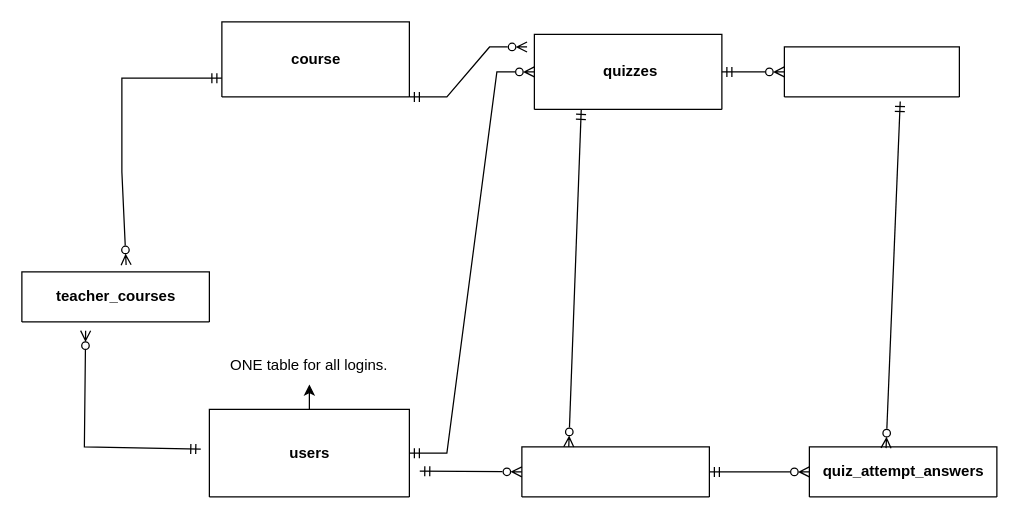
Some shapes in this 1019 by 519 pixel diagram are drawn without their labels. The shapes that lost their labels are listed below. From the top down, each one's box as (x1, y1, x2, y2) in pixels, then its label:
(783, 46, 959, 97): quiz_questions
(521, 446, 709, 497): attempts_quizes
